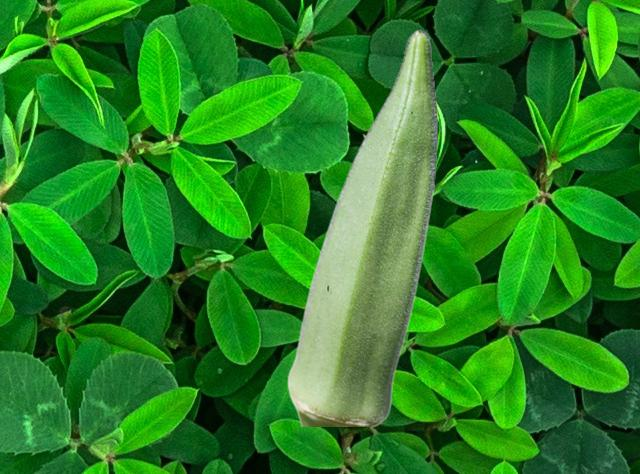okra: (287, 29, 437, 425)
